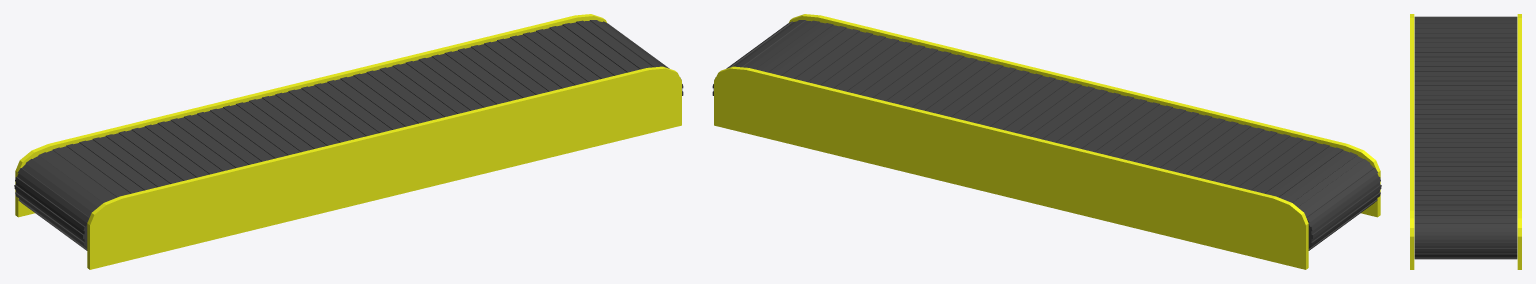
File: Fließband_2.fbx
The picture shows the model from 3 angles, left to right: view 1: azimuth 30°, elevation 25°; view 2: azimuth 150°, elevation 25°; view 3: azimuth 270°, elevation 25°; orthographic projection. The views are drawn at different scales.
Parts seen in each view (by area): view 1: Fließband; view 2: Fließband; view 3: Fließband.
Boxes of the visible parts, x1,y1,x2,y2 form: Fließband: (14, 14, 683, 269); Fließband: (712, 14, 1381, 269); Fließband: (1410, 14, 1521, 269).
Size of the model in its own units: 393 by 39.73 by 84.64.
